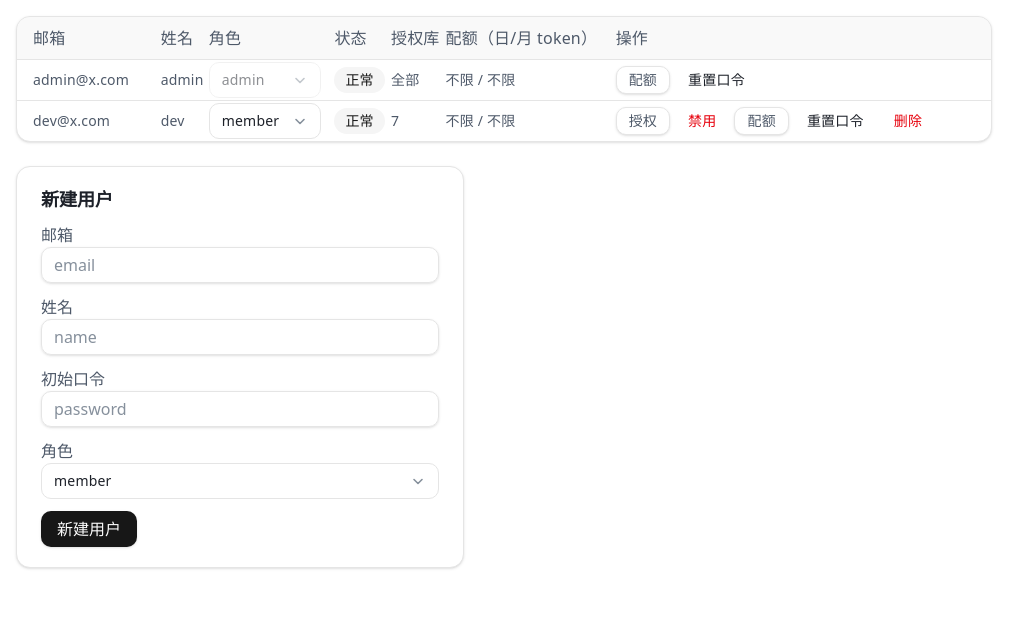
创建：邮箱格式不合法 → 友好文案拦截，不发请求
Check: the text "dev@x.com" is shown, box [17,100,161,141]
In the field labelled "邮箱": coordinates (240, 265) [41,247,439,283], type "not-an-email"
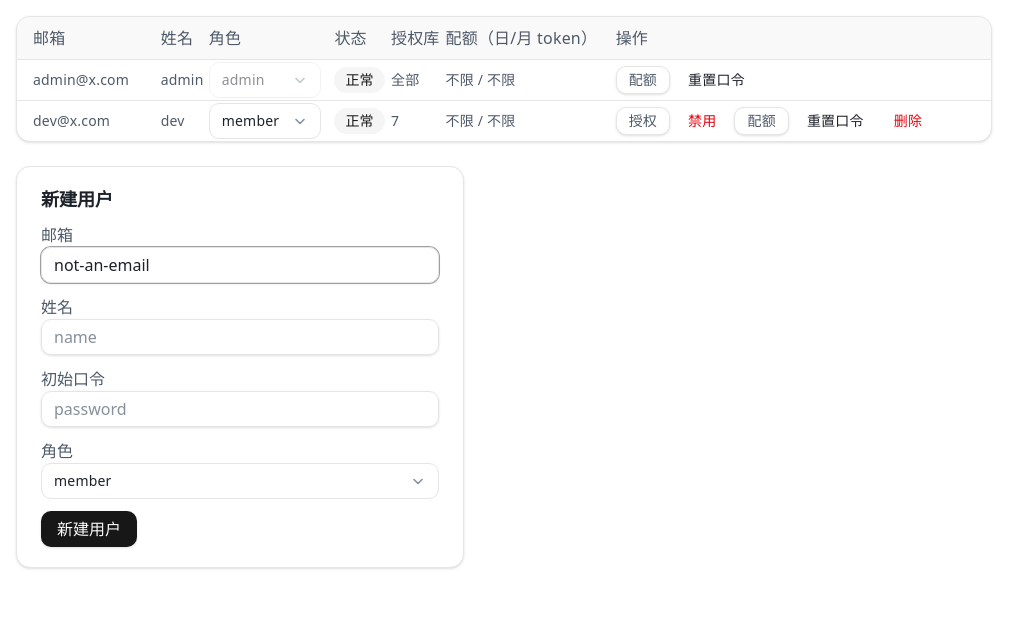
In the field labelled "姓名": coordinates (240, 337) [41,319,439,355], type "新人"
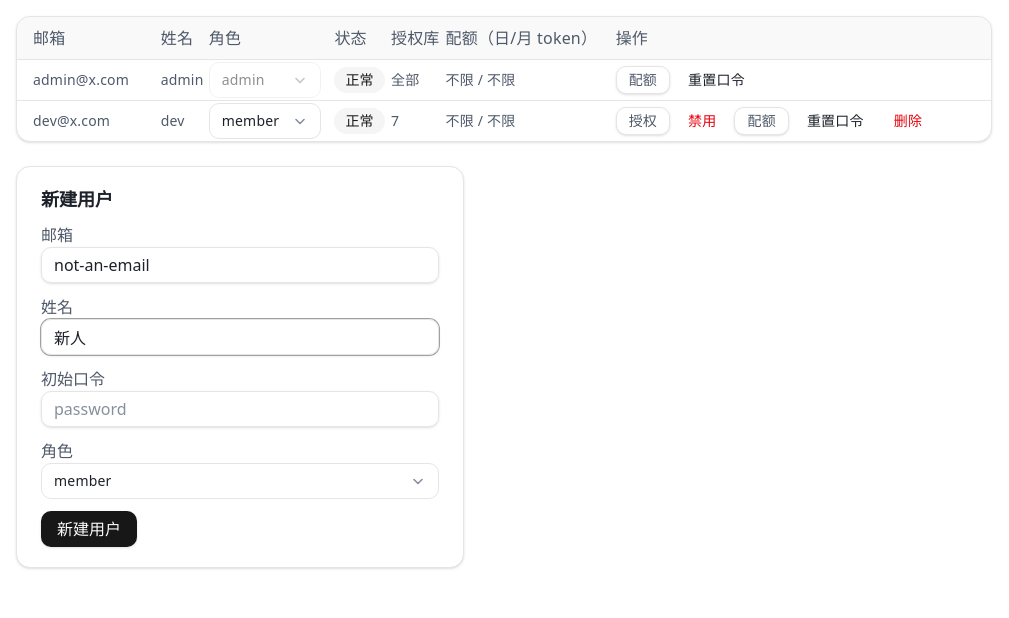
In the password field labelled "初始口令": coordinates (240, 409) [41,391,439,427], type "Passw0rd-1"
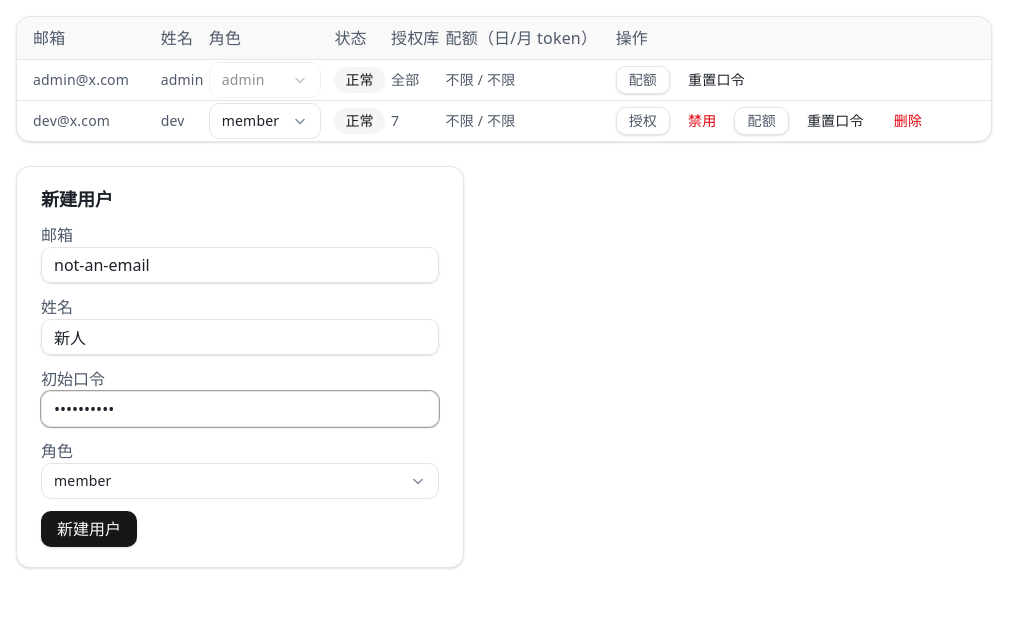
Click the button "新建用户": coordinates (89, 529) [41,511,137,547]
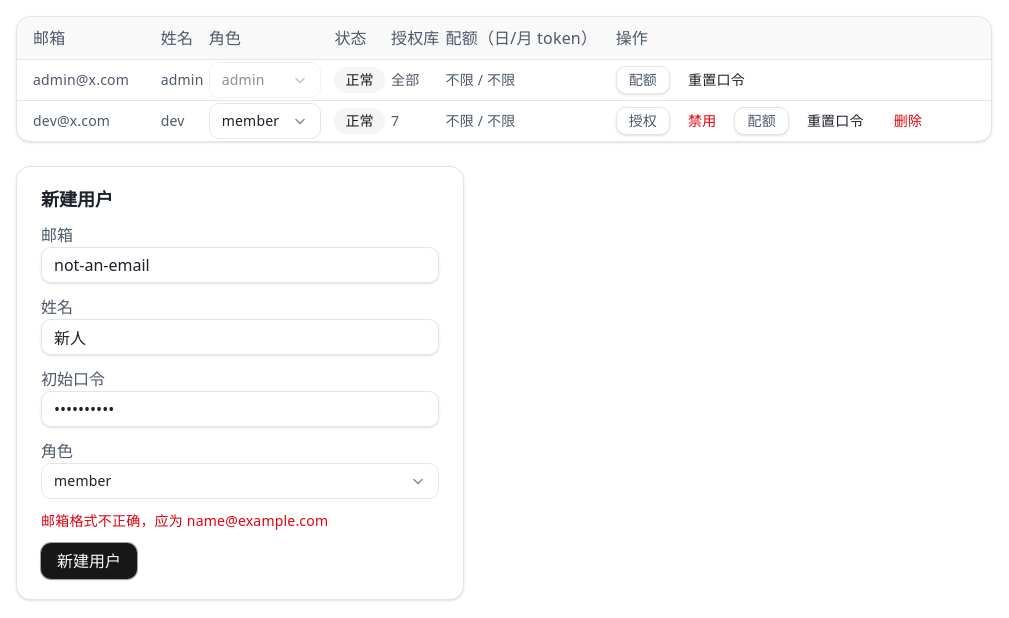
Check: the text "邮箱格式不正确，应为 name@example.com" is shown, box [41,511,328,530]
